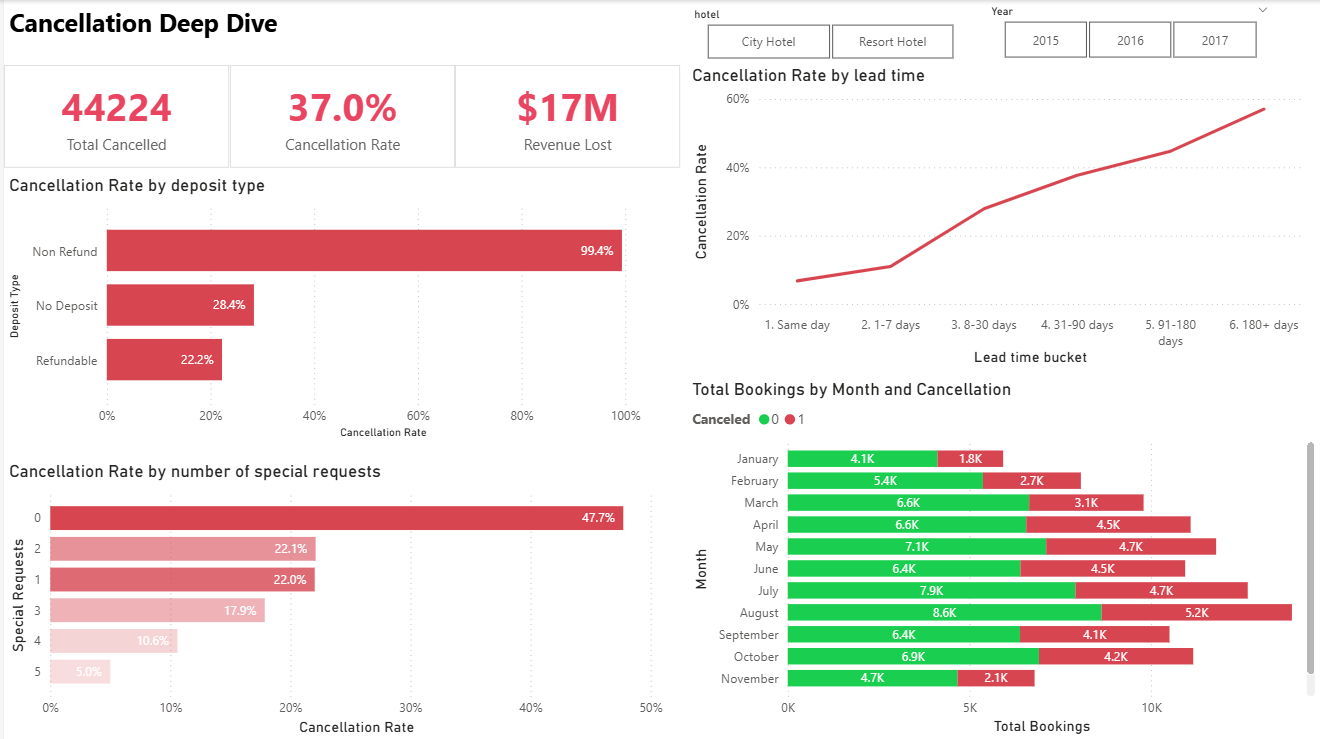

Layout of this report page (visuals, bound fields, positions):
{"tool":"powerbi","page":{"name":"Cancellation Deep Dive","canvas":[1280,720],"ordinal":3},"visuals":[{"type":"card","fields":{"Values":["hotel_bookings_clean.Cancellation Rate"]},"box":[219.4,63.5,219.4,99.7],"z":0},{"type":"card","fields":{"Values":["hotel_bookings_clean.Revenue Lost"]},"box":[438.9,63.5,219.4,99.7],"z":1000},{"type":"card","fields":{"Values":["hotel_bookings_clean.Total Cancelled"]},"box":[0,63.5,219.4,99.7],"z":2000},{"type":"clusteredBarChart","title":"Cancellation Rate by deposit type","fields":{"Category":["hotel_bookings_clean.deposit_type"],"Y":["hotel_bookings_clean.Cancellation Rate"]},"box":[0,170.5,658.3,261.2],"z":3000},{"type":"lineChart","title":"Cancellation Rate by lead time","fields":{"Category":["hotel_bookings_clean.lead_time_bucket"],"Y":["hotel_bookings_clean.Cancellation Rate"]},"box":[664.7,63.5,608.5,296.5],"z":4000},{"type":"barChart","title":"Cancellation Rate by number of special requests","fields":{"Category":["hotel_bookings_clean.total_of_special_requests"],"Y":["hotel_bookings_clean.Cancellation Rate"]},"box":[0,448.9,658.3,271.1],"z":5000},{"type":"barChart","title":"Total Bookings by Month and Cancellation","fields":{"Category":["DateTable.Month"],"Y":["hotel_bookings_clean.Total Bookings"],"Series":["hotel_bookings_clean.is_canceled"]},"box":[664.7,369.1,615.7,350.9],"z":6000},{"type":"textbox","box":[0,0,300.2,49],"z":7000},{"type":"slicer","fields":{"Values":["hotel_bookings_clean.hotel"]},"box":[658.3,2.7,289.3,60.8],"z":8000},{"type":"slicer","fields":{"Values":["DateTable.Year"]},"box":[947.6,0,294.7,63.5],"z":9000}]}

Visuals, with their boxes in screenshot pixels (x1, y1, x2, y2), scaled from the page's 1280x720 canvas onto the 1320x739 screenshot:
card - hotel_bookings_clean.Cancellation Rate: [x1=226, y1=65, x2=453, y2=168]
card - hotel_bookings_clean.Revenue Lost: [x1=453, y1=65, x2=679, y2=168]
card - hotel_bookings_clean.Total Cancelled: [x1=0, y1=65, x2=226, y2=168]
"Cancellation Rate by deposit type" clusteredBarChart: [x1=0, y1=175, x2=679, y2=443]
"Cancellation Rate by lead time" lineChart: [x1=685, y1=65, x2=1313, y2=369]
"Cancellation Rate by number of special requests" barChart: [x1=0, y1=461, x2=679, y2=738]
"Total Bookings by Month and Cancellation" barChart: [x1=685, y1=379, x2=1319, y2=738]
textbox: [x1=0, y1=0, x2=310, y2=50]
slicer - hotel_bookings_clean.hotel: [x1=679, y1=3, x2=977, y2=65]
slicer - DateTable.Year: [x1=977, y1=0, x2=1281, y2=65]
